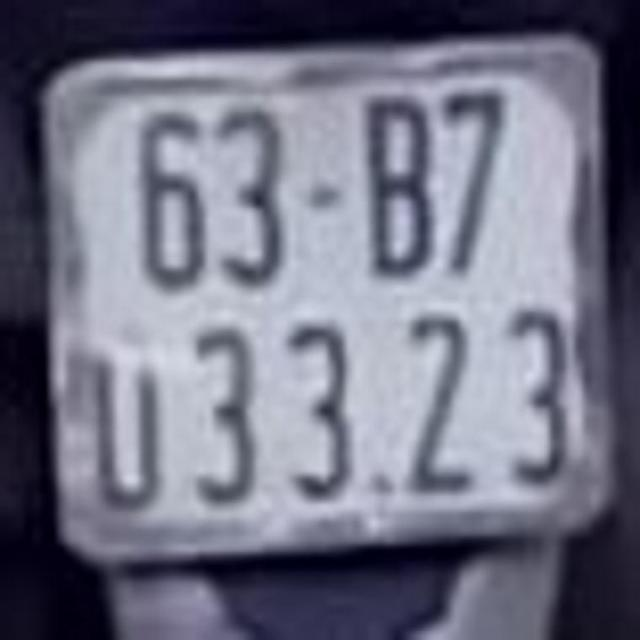0: (86, 306, 166, 512)
2: (401, 306, 480, 493)
3: (279, 311, 356, 499), (191, 320, 268, 504), (212, 99, 285, 287), (504, 300, 572, 486)
6: (133, 102, 208, 286)
7: (443, 81, 509, 274)
B: (356, 85, 438, 278)
